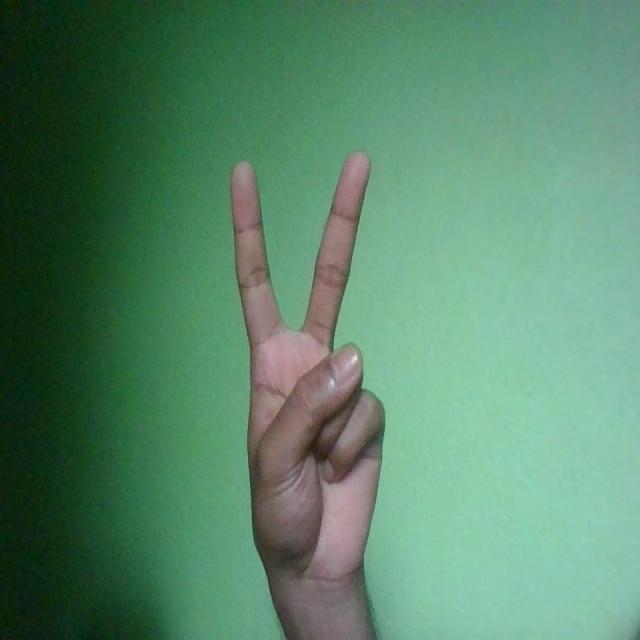Fist: (228, 150, 386, 590)
